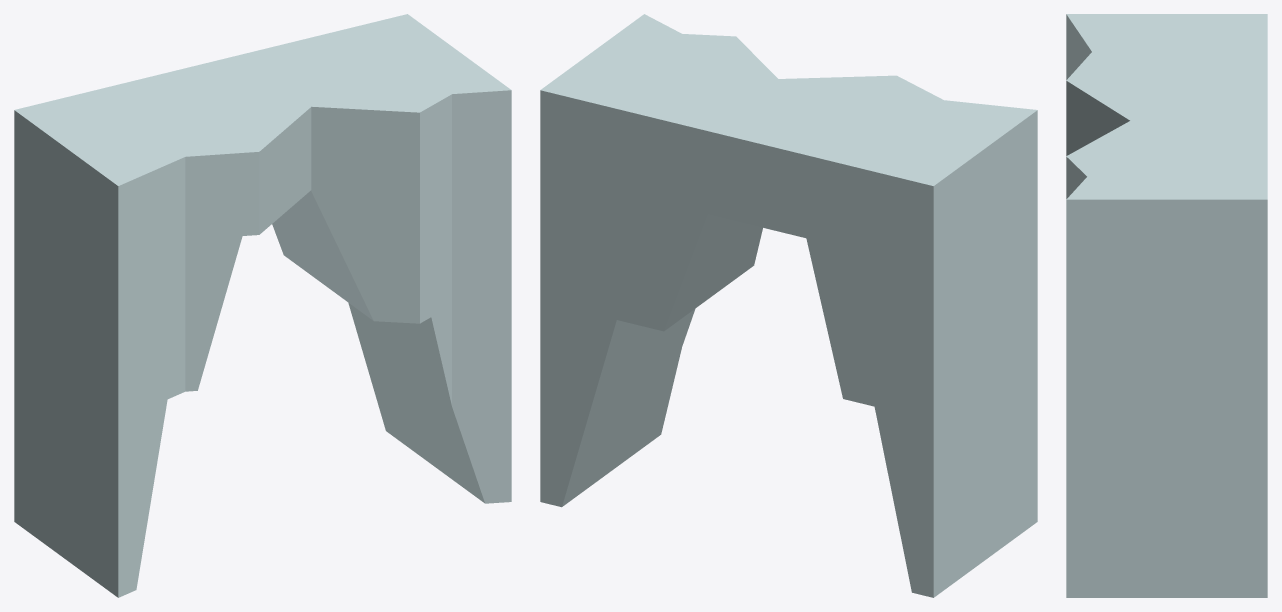
Rendered from cliffGrey_entrance.glb.
3 views of the same model, side by side, from view 1: azimuth 30°, elevation 25°; view 2: azimuth 150°, elevation 25°; view 3: azimuth 270°, elevation 25° (orthographic). The views are drawn at different scales.
Parts seen in each view (by area): view 1: cliffGrey_entrance; view 2: cliffGrey_entrance; view 3: cliffGrey_entrance.
Boxes of the visible parts, x1,y1,x2,y2 form: cliffGrey_entrance: (14, 14, 511, 597); cliffGrey_entrance: (540, 14, 1037, 597); cliffGrey_entrance: (1066, 14, 1267, 597).
Size of the model in its own units: 1 by 1 by 0.4584.
